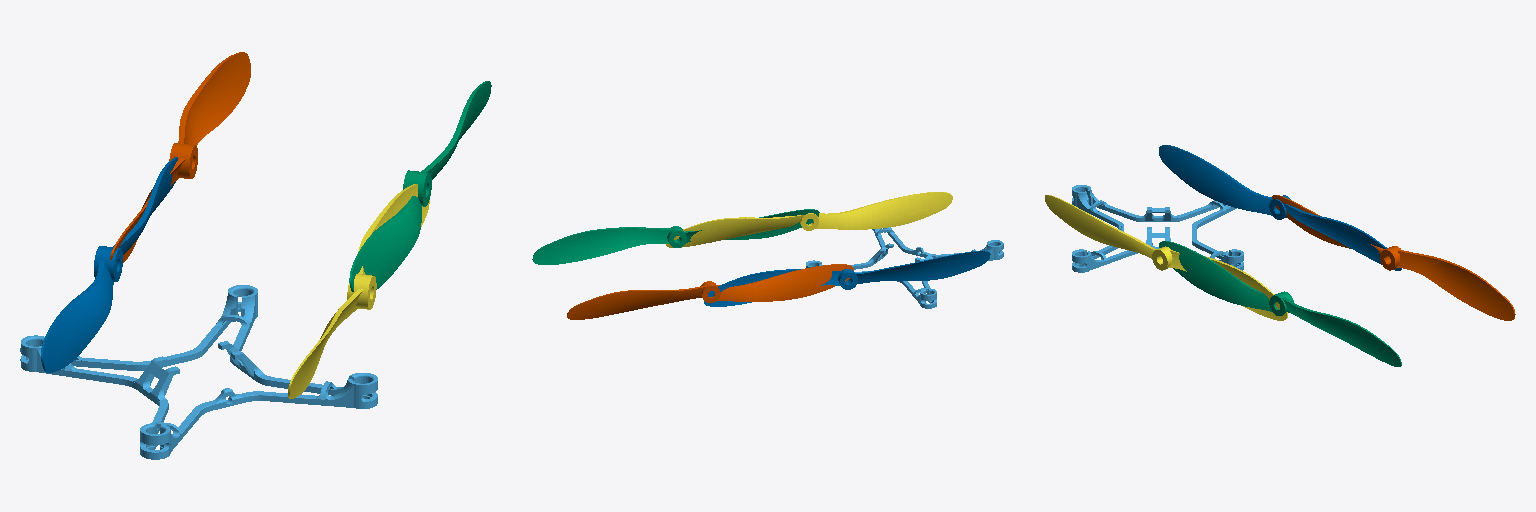
URDF robot description (edrone_gazebo):
<?xml version="1.0" ?>
<!-- =================================================================================== -->
<!-- |    This document was autogenerated by xacro from [local-path]/test_ws/src/edrone_gazebo/urdf/edrone_model.urdf.xacro | -->
<!-- |    EDITING THIS FILE BY HAND IS NOT RECOMMENDED                                 | -->
<!-- =================================================================================== -->
<!-- this file has some error 
      1) propeller positioning and orientation 
      2) topic publishment -->
<robot name="edrone_gazebo" xmlns:xacro="http://ros.org/wiki/xacro">
  <link name="base_link"/>
  <joint name="base_joint" type="fixed">
    <origin rpy="0 0 0" xyz="0 0 0"/>
    <parent link="base_link"/>
    <child link="base_link_inertia"/>
  </joint>
  <link name="base_link_inertia">
    <inertial>
      <mass value="0.0085"/>
      <!-- [kg] -->
      <origin xyz="0 0 0"/>
      <inertia ixx="1212.180604086" ixy="0.054623298" ixz="1.422272295" iyy="2434.164644974" iyz="0.079308392" izz="1238.767881216"/>
    </inertial>
    <visual>
      <origin rpy="1.57079632679 0 0" xyz="0 0 0"/>
      <geometry>
        <mesh filename="package://edrone_gazebo/urdf/stl/frame.stl" scale="0.001 0.001 0.001"/>
        <!-- <box size="${body_width} ${body_width} ${body_height}"/> -->
        <!-- [m] [m] [m] -->
      </geometry>
    </visual>
    <collision>
      <origin rpy="1.57079632679 0 0" xyz="0 0 0"/>
      <geometry>
        <box size="0.14 0.14 0.015"/>
        <!-- [m] [m] [m] -->
      </geometry>
    </collision>
  </link>
  <!-- attach multirotor_base_plugin to the base_link -->
  <gazebo>
    <plugin filename="librotors_gazebo_multirotor_base_plugin.so" name="rosbag">
      <robotNamespace>edrone_gazebo</robotNamespace>
      <linkName>base_link</linkName>
      <rotorVelocitySlowdownSim>10</rotorVelocitySlowdownSim>
    </plugin>
  </gazebo>
  <gazebo reference="base_link">
    <material>Gazebo/DarkGrey</material>
  </gazebo>
  <joint name="rotor_0_joint" type="continuous">
    <origin rpy="0 0 0" xyz="0.0675 0 0.01"/>
    <axis xyz="0 0 1"/>
    <!-- TODO(ff): not currently set because it's not yet supported -->
    <!-- <limit effort="2000" velocity="${max_rot_velocity}" /> -->
    <parent link="base_link"/>
    <child link="rotor_0"/>
  </joint>
  <!-- TODO(ff): not currently set because it's not yet supported -->
  <!-- <gazebo reference="rotor_${motor_number}_joint"> <axis> <xyz>0 0 1</xyz>
      <limit> <velocity> ${max_rot_velocity} </velocity> </limit> </axis> </gazebo> -->
  <link name="rotor_0">
    <inertial>
      <mass value="0.0037"/>
      <!-- [kg] -->
      <inertia ixx="7.215e-07" ixy="0.0" ixz="0.0" iyy="1.78833333333e-07" iyz="0.0" izz="8.44833333333e-07"/>
    </inertial>
    <visual>
      <geometry>
        <!-- <cylinder length="0.005" radius="${radius_rotor}"/> -->
        <!-- [m] -->
        <!-- <mesh filename="package://rotors_description/meshes/propeller_${direction}.dae" -->
        <!-- <mesh filename="package://edrone_gazebo/urdf/stl/prop_CCW_45.stl" scale="0.12 0.12 0.12"/> -->
        <mesh filename="package://edrone_gazebo/urdf/stl/prop_CCW_45.stl" scale="0.001 0.001 0.001" />
        <!-- <box size="${2*radius_rotor} 0.01 0.005"/> -->
      </geometry>
    </visual>
    <collision>
      <geometry>
        <cylinder length="0.005" radius="0.0035"/>
        <!-- [m] -->
      </geometry>
    </collision>
  </link>
  <gazebo>
    <plugin filename="librotors_gazebo_motor_model.so" name="front_motor_model">
      <robotNamespace>edrone_gazebo</robotNamespace>
      <jointName>rotor_0_joint</jointName>
      <linkName>rotor_0</linkName>
      <turningDirection>CCW_45</turningDirection>
      <timeConstantUp>0.15</timeConstantUp>
      <timeConstantDown>0.15</timeConstantDown>
      <maxRotVelocity>770</maxRotVelocity>
      <motorConstant>2.39e-05</motorConstant>
      <momentConstant>0.016</momentConstant>
      <commandSubTopic>gazebo/command/motor_speed</commandSubTopic>
      <motorNumber>0</motorNumber>
      <rotorDragCoefficient>1.3858e-06</rotorDragCoefficient>
      <rollingMomentCoefficient>1e-06</rollingMomentCoefficient>
      <motorSpeedPubTopic>motor_speed/0</motorSpeedPubTopic>
      <rotorVelocitySlowdownSim>10</rotorVelocitySlowdownSim>
    </plugin>
  </gazebo>
  <gazebo reference="rotor_0">
    <material>Gazebo/Blue</material>
  </gazebo>
  <joint name="rotor_1_joint" type="continuous">
    <origin rpy="0 0 0" xyz="0 -0.0675 0.01"/>
    <axis xyz="0 0 1"/>
    <!-- TODO(ff): not currently set because it's not yet supported -->
    <!-- <limit effort="2000" velocity="${max_rot_velocity}" /> -->
    <parent link="base_link"/>
    <child link="rotor_1"/>
  </joint>
  <!-- TODO(ff): not currently set because it's not yet supported -->
  <!-- <gazebo reference="rotor_${motor_number}_joint"> <axis> <xyz>0 0 1</xyz>
      <limit> <velocity> ${max_rot_velocity} </velocity> </limit> </axis> </gazebo> -->
  <link name="rotor_1">
    <inertial>
      <mass value="0.0037"/>
      <!-- [kg] -->
      <inertia ixx="7.215e-07" ixy="0.0" ixz="0.0" iyy="1.78833333333e-07" iyz="0.0" izz="8.44833333333e-07"/>
    </inertial>
    <visual>
      <geometry>
        <!-- <cylinder length="0.005" radius="${radius_rotor}"/> -->
        <!-- [m] -->
        <!-- <mesh filename="package://rotors_description/meshes/propeller_${direction}.dae" -->
        <mesh filename="package://edrone_gazebo/urdf/stl/prop_CW_45.stl" scale="0.001 0.001 0.001"/>
        <!-- <box size="${2*radius_rotor} 0.01 0.005"/> -->
      </geometry>
    </visual>
    <collision>
      <geometry>
        <cylinder length="0.005" radius="0.0035"/>
        <!-- [m] -->
      </geometry>
    </collision>
  </link>
  <gazebo>
    <plugin filename="librotors_gazebo_motor_model.so" name="right_motor_model">
      <robotNamespace>edrone_gazebo</robotNamespace>
      <jointName>rotor_1_joint</jointName>
      <linkName>rotor_1</linkName>
      <turningDirection>CW_45</turningDirection>
      <timeConstantUp>0.15</timeConstantUp>
      <timeConstantDown>0.15</timeConstantDown>
      <maxRotVelocity>770</maxRotVelocity>
      <motorConstant>2.39e-05</motorConstant>
      <momentConstant>0.016</momentConstant>
      <commandSubTopic>gazebo/command/motor_speed</commandSubTopic>
      <motorNumber>1</motorNumber>
      <rotorDragCoefficient>1.3858e-06</rotorDragCoefficient>
      <rollingMomentCoefficient>1e-06</rollingMomentCoefficient>
      <motorSpeedPubTopic>motor_speed/1</motorSpeedPubTopic>
      <rotorVelocitySlowdownSim>10</rotorVelocitySlowdownSim>
    </plugin>
  </gazebo>
  <gazebo reference="rotor_1">
    <material>Gazebo/Grey</material>
  </gazebo>
  <joint name="rotor_2_joint" type="continuous">
    <origin rpy="0 0 0" xyz="-0.0675 0 0.01"/>
    <axis xyz="0 0 1"/>
    <!-- TODO(ff): not currently set because it's not yet supported -->
    <!-- <limit effort="2000" velocity="${max_rot_velocity}" /> -->
    <parent link="base_link"/>
    <child link="rotor_2"/>
  </joint>
  <!-- TODO(ff): not currently set because it's not yet supported -->
  <!-- <gazebo reference="rotor_${motor_number}_joint"> <axis> <xyz>0 0 1</xyz>
      <limit> <velocity> ${max_rot_velocity} </velocity> </limit> </axis> </gazebo> -->
  <link name="rotor_2">
    <inertial>
      <mass value="0.0037"/>
      <!-- [kg] -->
      <inertia ixx="7.215e-07" ixy="0.0" ixz="0.0" iyy="1.78833333333e-07" iyz="0.0" izz="8.44833333333e-07"/>
    </inertial>
    <visual>
      <geometry>
        <!-- <cylinder length="0.005" radius="${radius_rotor}"/> -->
        <!-- [m] -->
        <!-- <mesh filename="package://rotors_description/meshes/propeller_${direction}.dae" -->
        <mesh filename="package://edrone_gazebo/urdf/stl/prop_CCW_45.stl" scale="0.001 0.001 0.001"/>
        <!-- <box size="${2*radius_rotor} 0.01 0.005"/> -->
      </geometry>
    </visual>
    <collision>
      <geometry>
        <cylinder length="0.005" radius="0.0035"/>
        <!-- [m] -->
      </geometry>
    </collision>
  </link>
  <gazebo>
    <plugin filename="librotors_gazebo_motor_model.so" name="back_motor_model">
      <robotNamespace>edrone_gazebo</robotNamespace>
      <jointName>rotor_2_joint</jointName>
      <linkName>rotor_2</linkName>
      <turningDirection>CCW_45</turningDirection>
      <timeConstantUp>0.15</timeConstantUp>
      <timeConstantDown>0.15</timeConstantDown>
      <maxRotVelocity>770</maxRotVelocity>
      <motorConstant>2.39e-05</motorConstant>
      <momentConstant>0.016</momentConstant>
      <commandSubTopic>gazebo/command/motor_speed</commandSubTopic>
      <motorNumber>2</motorNumber>
      <rotorDragCoefficient>1.3858e-06</rotorDragCoefficient>
      <rollingMomentCoefficient>1e-06</rollingMomentCoefficient>
      <motorSpeedPubTopic>motor_speed/2</motorSpeedPubTopic>
      <rotorVelocitySlowdownSim>10</rotorVelocitySlowdownSim>
    </plugin>
  </gazebo>
  <gazebo reference="rotor_2">
    <material>Gazebo/Grey</material>
  </gazebo>
  <joint name="rotor_3_joint" type="continuous">
    <origin rpy="0 0 0" xyz="0 0.0675 0.01"/>
    <axis xyz="0 0 1"/>
    <!-- TODO(ff): not currently set because it's not yet supported -->
    <!-- <limit effort="2000" velocity="${max_rot_velocity}" /> -->
    <parent link="base_link"/>
    <child link="rotor_3"/>
  </joint>
  <!-- TODO(ff): not currently set because it's not yet supported -->
  <!-- <gazebo reference="rotor_${motor_number}_joint"> <axis> <xyz>0 0 1</xyz>
      <limit> <velocity> ${max_rot_velocity} </velocity> </limit> </axis> </gazebo> -->
  <link name="rotor_3">
    <inertial>
      <mass value="0.0037"/>
      <!-- [kg] -->
      <inertia ixx="7.215e-07" ixy="0.0" ixz="0.0" iyy="1.78833333333e-07" iyz="0.0" izz="8.44833333333e-07"/>
    </inertial>
    <visual>
      <geometry>
        <!-- <cylinder length="0.005" radius="${radius_rotor}"/> -->
        <!-- [m] -->
        <!-- <mesh filename="package://rotors_description/meshes/propeller_${direction}.dae" -->
        <mesh filename="package://edrone_gazebo/urdf/stl/prop_CW_45.stl" scale="0.001 0.001 0.001"/>
        <!-- <box size="${2*radius_rotor} 0.01 0.005"/> -->
      </geometry>
    </visual>
    <collision>
      <geometry>
        <cylinder length="0.005" radius="0.0035"/>
        <!-- [m] -->
      </geometry>
    </collision>
  </link>
  <gazebo>
    <plugin filename="librotors_gazebo_motor_model.so" name="left_motor_model">
      <robotNamespace>edrone_gazebo</robotNamespace>
      <jointName>rotor_3_joint</jointName>
      <linkName>rotor_3</linkName>
      <turningDirection>CW_45</turningDirection>
      <timeConstantUp>0.15</timeConstantUp>
      <timeConstantDown>0.15</timeConstantDown>
      <maxRotVelocity>770</maxRotVelocity>
      <motorConstant>2.39e-05</motorConstant>
      <momentConstant>0.016</momentConstant>
      <commandSubTopic>gazebo/command/motor_speed</commandSubTopic>
      <motorNumber>3</motorNumber>
      <rotorDragCoefficient>1.3858e-06</rotorDragCoefficient>
      <rollingMomentCoefficient>1e-06</rollingMomentCoefficient>
      <motorSpeedPubTopic>motor_speed/3</motorSpeedPubTopic>
      <rotorVelocitySlowdownSim>10</rotorVelocitySlowdownSim>
    </plugin>
  </gazebo>
  <gazebo reference="rotor_3">
    <material>Gazebo/Grey</material>
  </gazebo>
</robot>

--- Facts derived from the render (not from the file) ---
Views: 3 orthographic renders of the robot side by side, from view 1: azimuth 30°, elevation 25°; view 2: azimuth 150°, elevation 25°; view 3: azimuth 270°, elevation 25°.
Model edrone_gazebo with 6 links and 5 joints (4 continuous, 1 fixed), rooted at base_link, posed all joints at 0.
Visible links, largest first — view 1: base_link_inertia, rotor_2, rotor_0, rotor_3, rotor_1; view 2: rotor_3, rotor_1, rotor_0, rotor_2, base_link_inertia; view 3: rotor_0, rotor_2, rotor_3, base_link_inertia, rotor_1.
Link boxes in pixels (x1,y1,x2,y2): base_link_inertia: (20,285,377,459); rotor_2: (41,157,177,372); rotor_0: (349,81,491,291); rotor_3: (110,52,250,262); rotor_1: (288,184,429,398); rotor_3: (567,264,853,319); rotor_1: (666,192,952,247); rotor_0: (532,209,819,264); rotor_2: (704,251,990,306); base_link_inertia: (806,227,1003,308); rotor_0: (1159,241,1401,366); rotor_2: (1159,145,1401,270); rotor_3: (1272,195,1515,320); base_link_inertia: (1072,185,1243,272); rotor_1: (1045,195,1287,320).
Size in the robot's own frame: 0.2792 by 0.2792 by 0.03 metres.
5 mesh visuals loaded from 3 distinct referenced files (3 binary STL).
